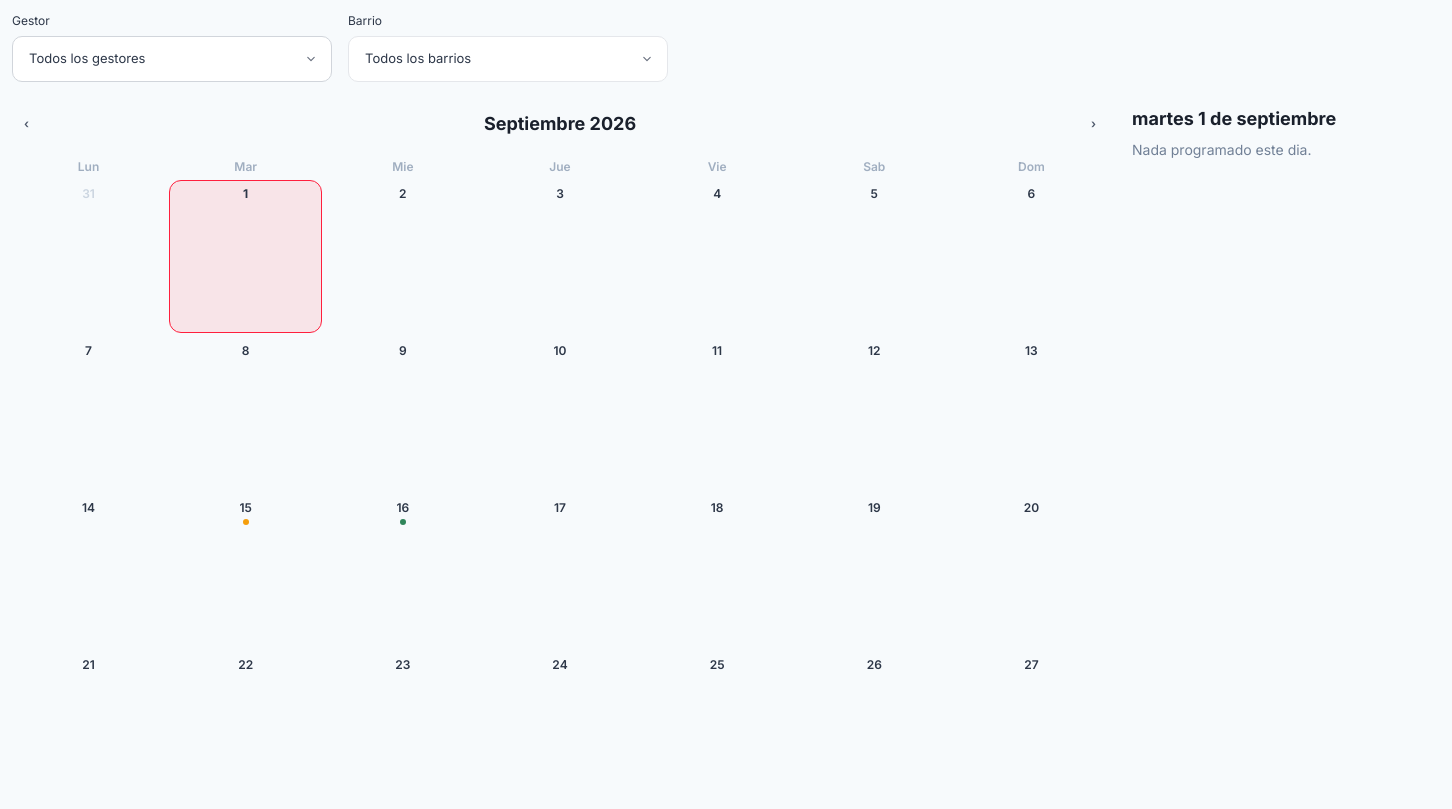
Test: EquipoCronogramaPanel › la lista del dia seleccionado muestra a que gestor le corresponde cada item
Click the button named "15 de septiembre" at (246, 570), box [169,494,322,647]
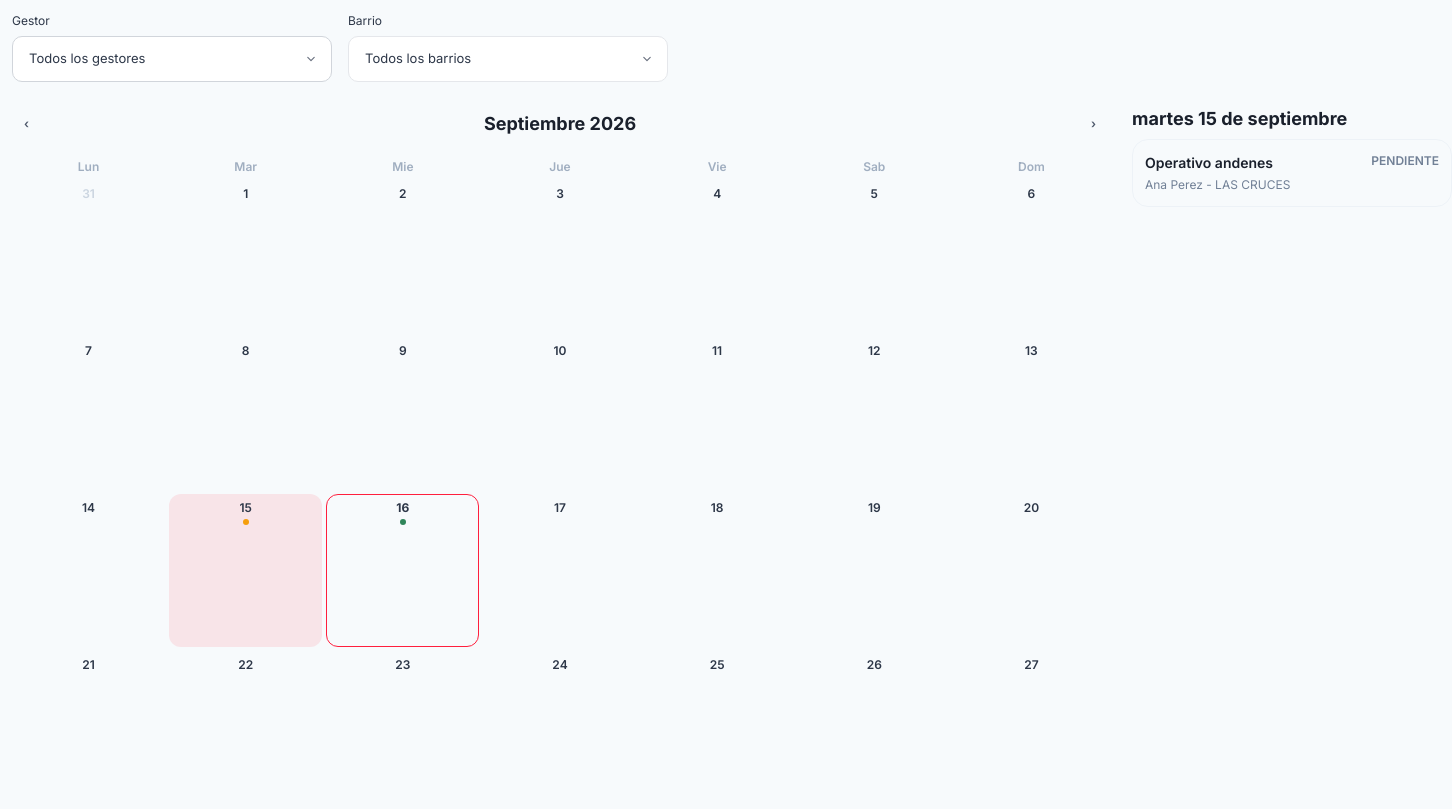
Expected: the text "Ana Perez - LAS CRUCES" is shown, [1145,177,1290,192]
